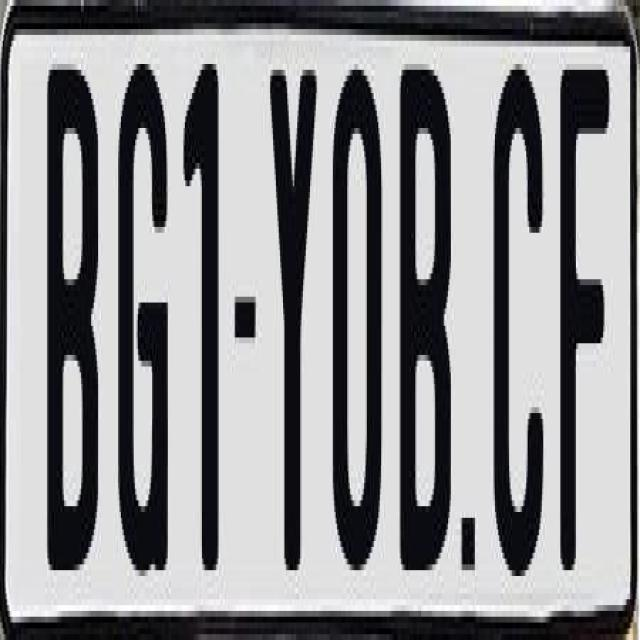0: (332, 70, 379, 600)
1: (182, 52, 218, 576)
B: (395, 52, 448, 564), (46, 70, 96, 588)
C: (494, 46, 544, 594)
F: (558, 52, 608, 558)
G: (115, 52, 168, 576)
Y: (270, 52, 324, 576)
